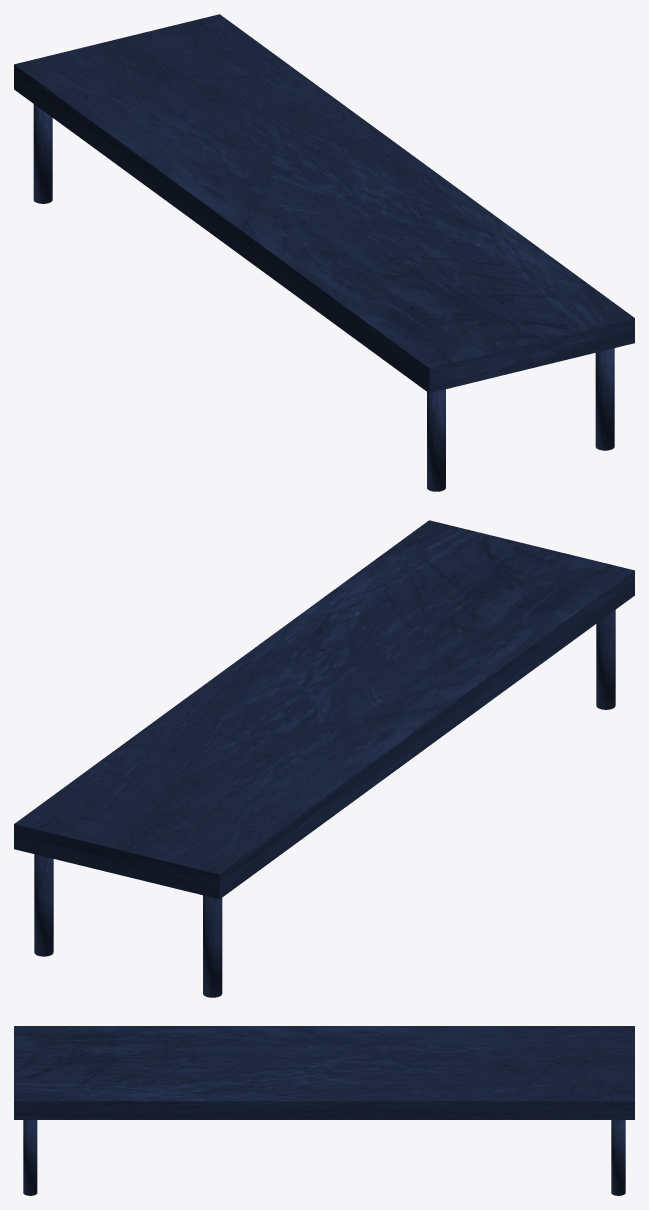
The model's file is weaponsTable.fbx.
3 views of the same model, one above another, from view 1: azimuth 30°, elevation 25°; view 2: azimuth 150°, elevation 25°; view 3: azimuth 270°, elevation 25° (orthographic). The views are drawn at different scales.
Visible parts, largest first — view 1: Cylinder.004; view 2: Cylinder.004; view 3: Cylinder.004.
Part boxes in pixels (box(x1,y1,x2,y2)): Cylinder.004: box(14, 14, 634, 491); Cylinder.004: box(14, 520, 634, 997); Cylinder.004: box(14, 1026, 634, 1195).
Size of the model in its own units: 149 by 91.45 by 522.
1 material, 1 textured.
